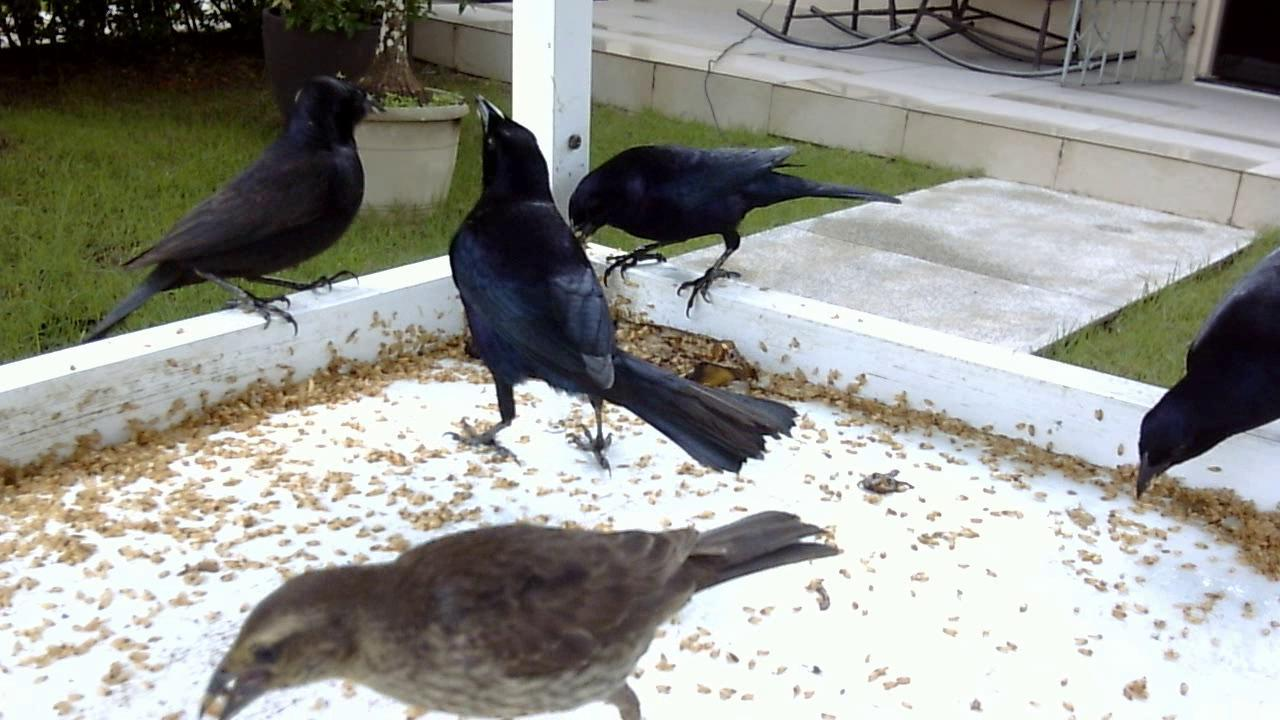chupim: (195, 475, 851, 720), (436, 115, 781, 493), (75, 77, 383, 354), (567, 124, 896, 327), (1128, 225, 1280, 512)
